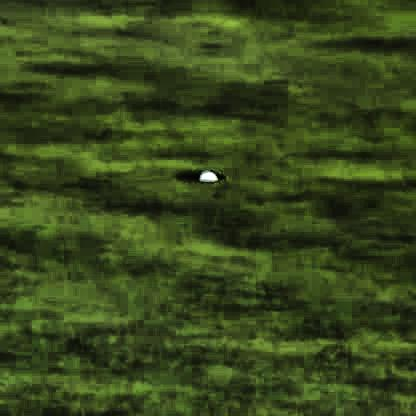golfball: (198, 174, 216, 184)
